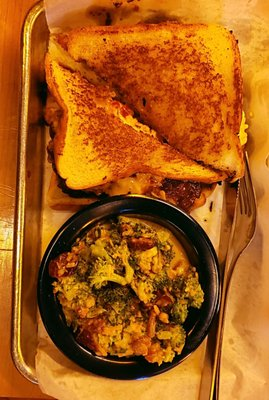sushi: (42, 195, 220, 395)
